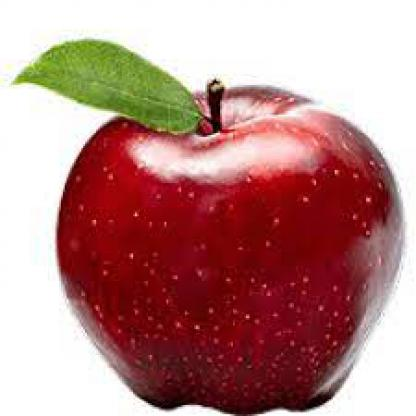Fresh: (15, 24, 408, 414)
